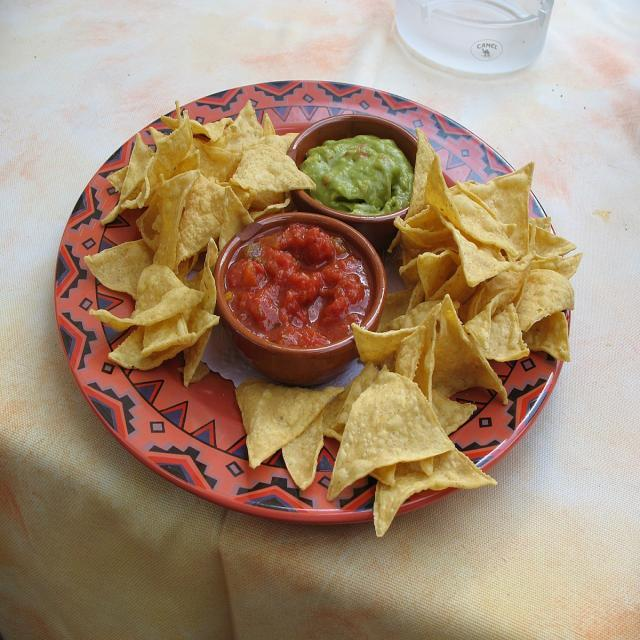Chips packaged: (409, 185, 576, 377), (330, 373, 452, 496), (228, 378, 346, 476), (94, 264, 200, 334), (235, 138, 315, 205), (150, 172, 190, 270)
